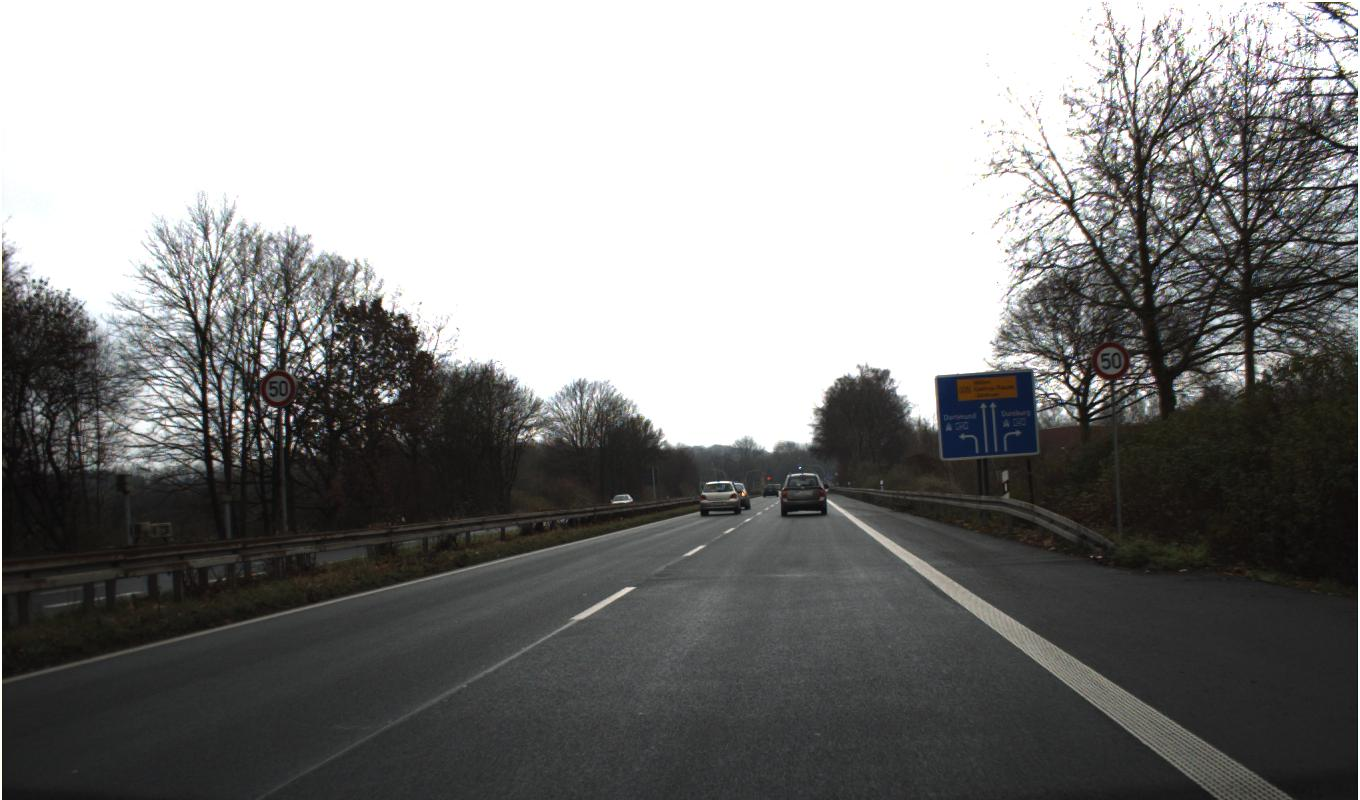prohibitory: (1090, 341, 1130, 381), (259, 369, 297, 408)
